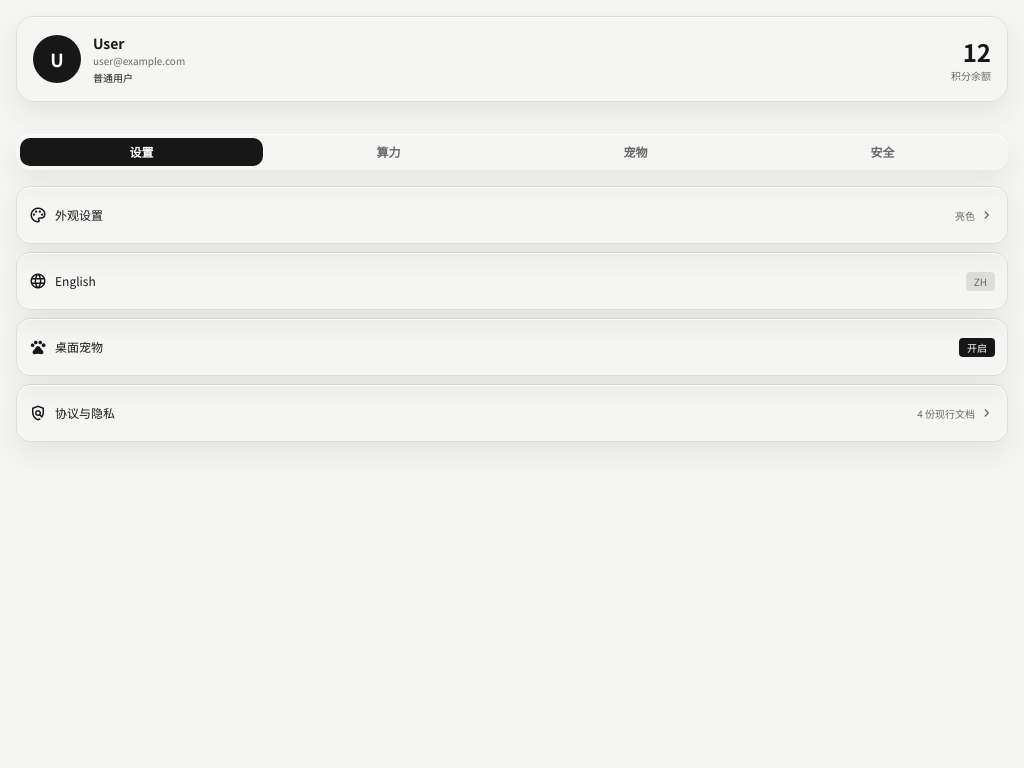
Test: MobileProfile credit history › distinguishes a client-side network failure from an empty history
Click the button "算力": (388, 152) [267,138,510,166]
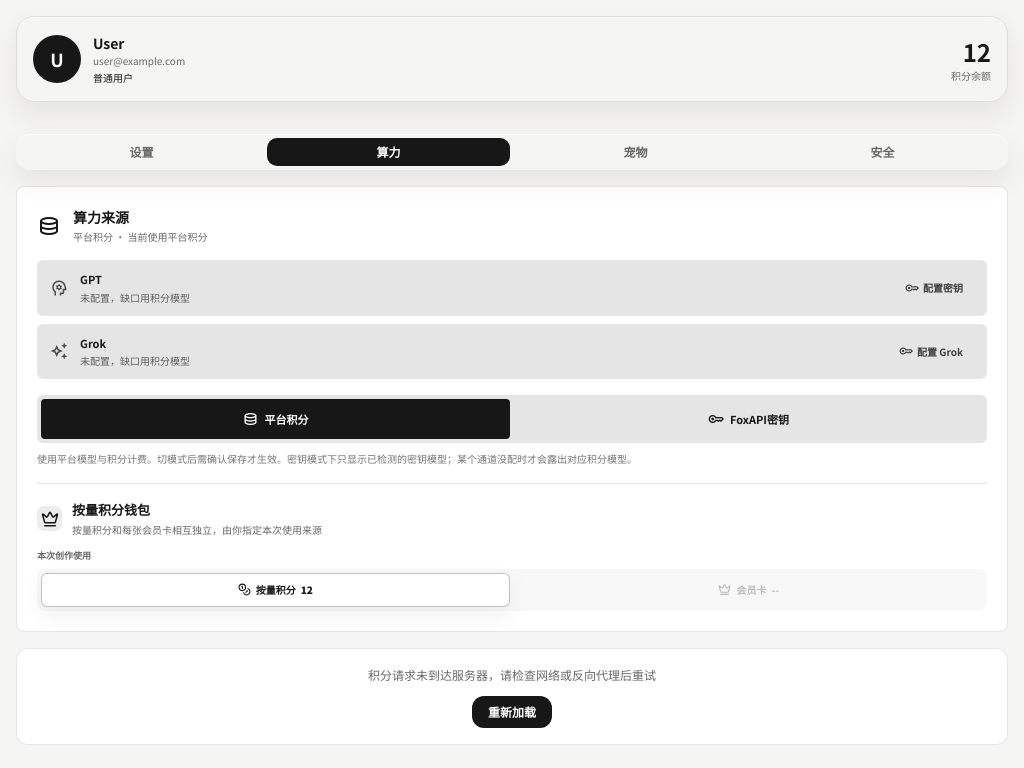
Expected: the text "积分请求未到达服务器，请检查网络或反向代理后重试" is shown, [368,666,656,682]
